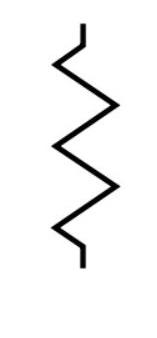resistor: (36, 28, 125, 255)
